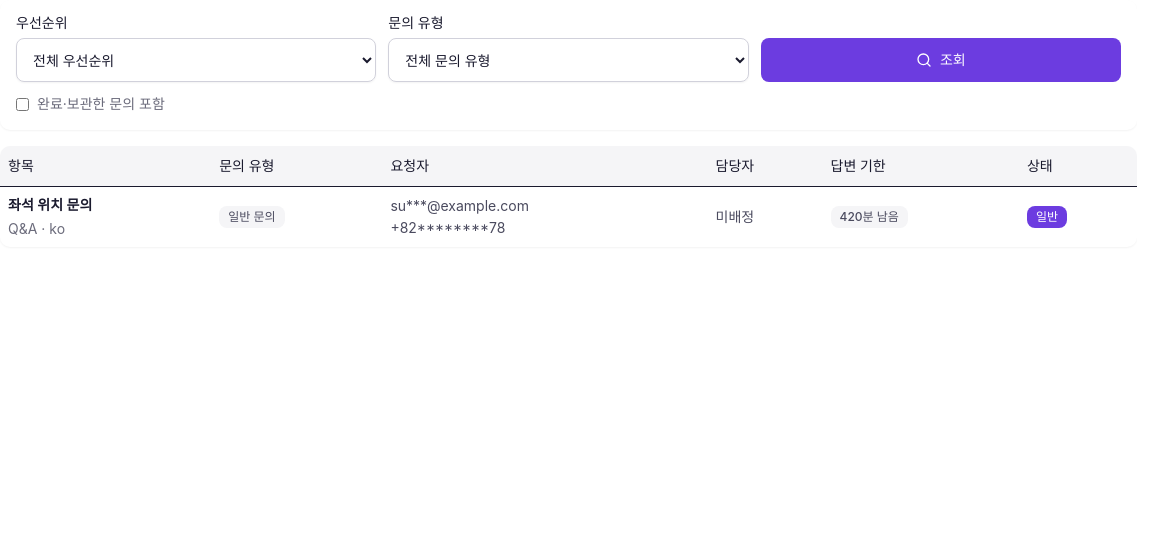
Test case: OperationsInbox › retains a failed reply and prevents duplicate submission while it is pending
Click the button with aria-label "좌석 위치 문의 문의 상세 보기": x=50, y=204 top-left (0, 186), bottom-right (1137, 246)
(page scrolled)
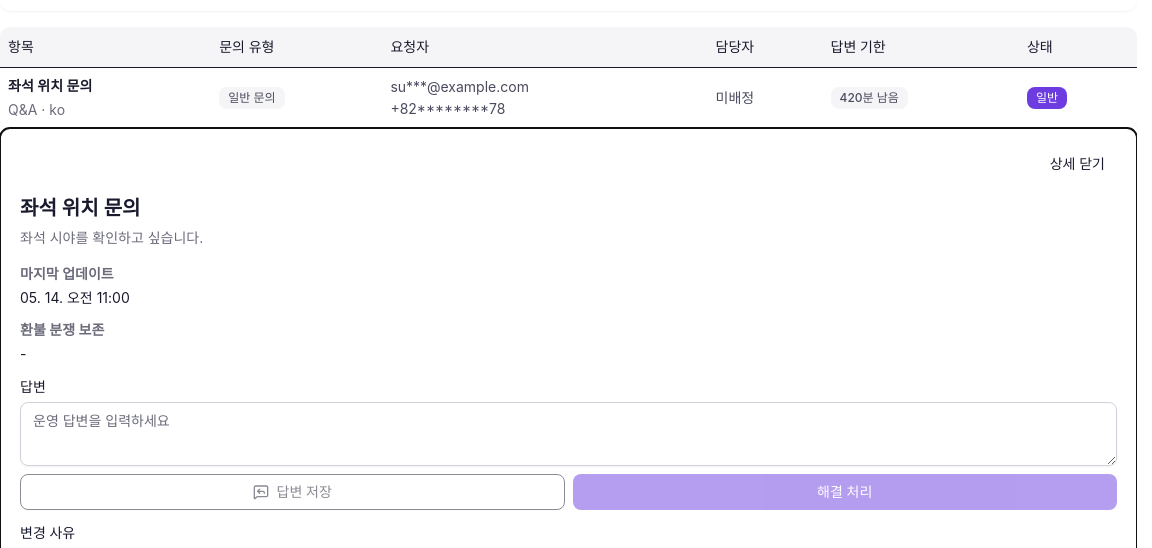
In the text box labelled "답변": x=568, y=434 top-left (20, 402), bottom-right (1117, 466), type "좌석 안내 답변"
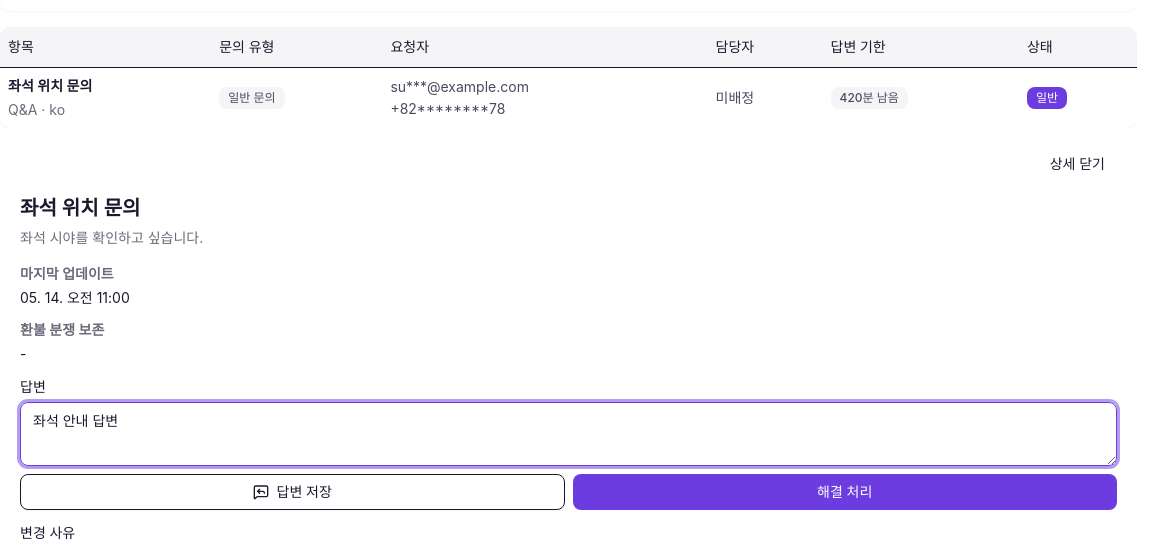
Click the button "답변 저장": x=292, y=492 top-left (20, 474), bottom-right (564, 510)
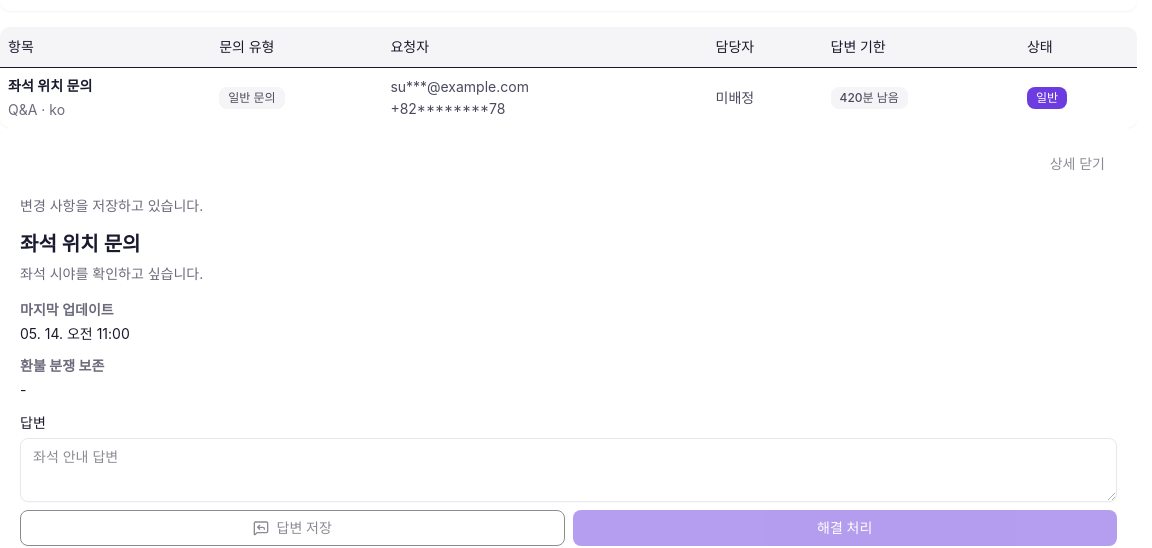
Result: the button "답변 저장" is disabled
Click the button "답변 저장": x=292, y=528 top-left (20, 510), bottom-right (564, 546)
(page scrolled)
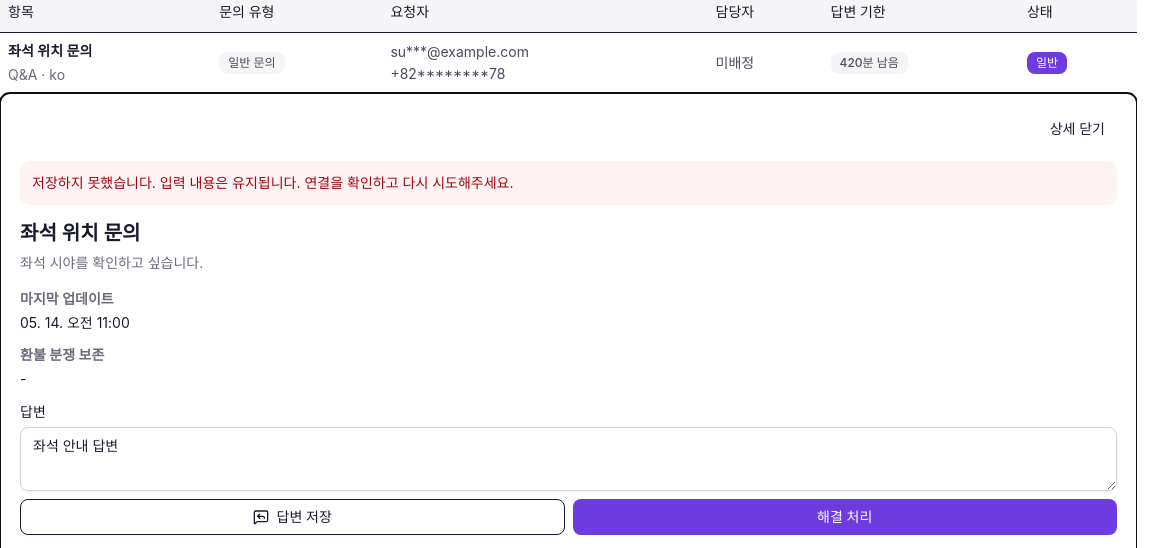
Result: the message shows "저장하지 못했습니다" at top-left (32, 174), bottom-right (514, 190)
